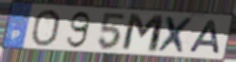5: (96, 11, 129, 53)
9: (65, 11, 92, 49)
A: (187, 19, 222, 56)
M: (119, 12, 167, 55)
O: (29, 8, 62, 48)
X: (156, 15, 197, 56)
